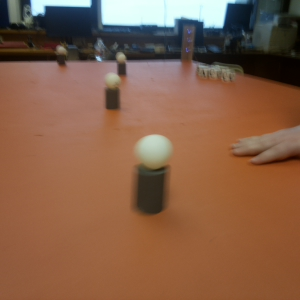blockA: (196, 64, 209, 81)
blockC: (221, 70, 237, 82)
corner: (180, 24, 196, 63)
obstacle: (133, 132, 173, 214), (104, 72, 121, 111), (54, 46, 69, 66), (116, 52, 129, 73)
